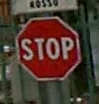stop: (14, 16, 81, 80)
